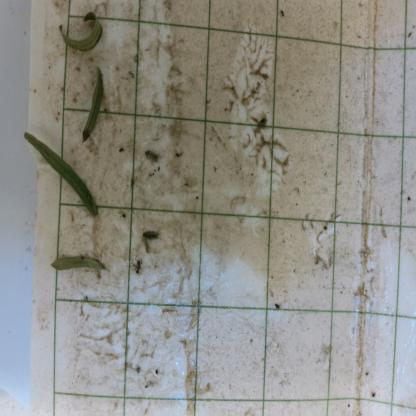prays_oleae: (139, 230, 161, 253), (143, 144, 160, 166), (128, 260, 142, 273)
